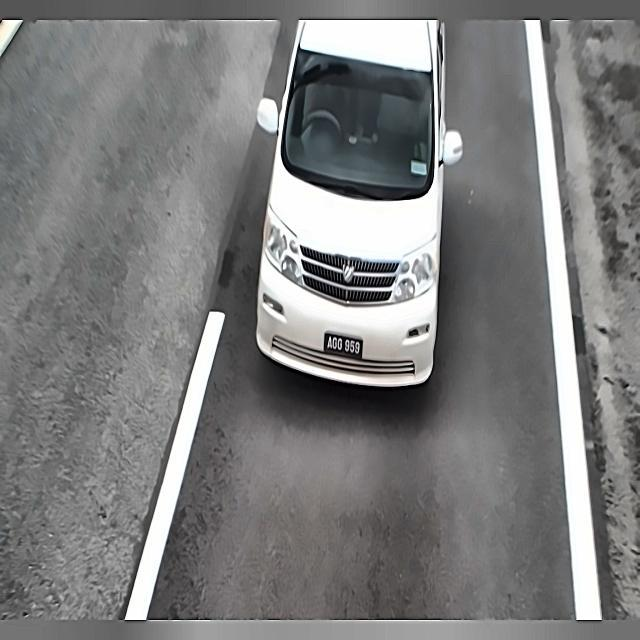car: (323, 331, 364, 362)
